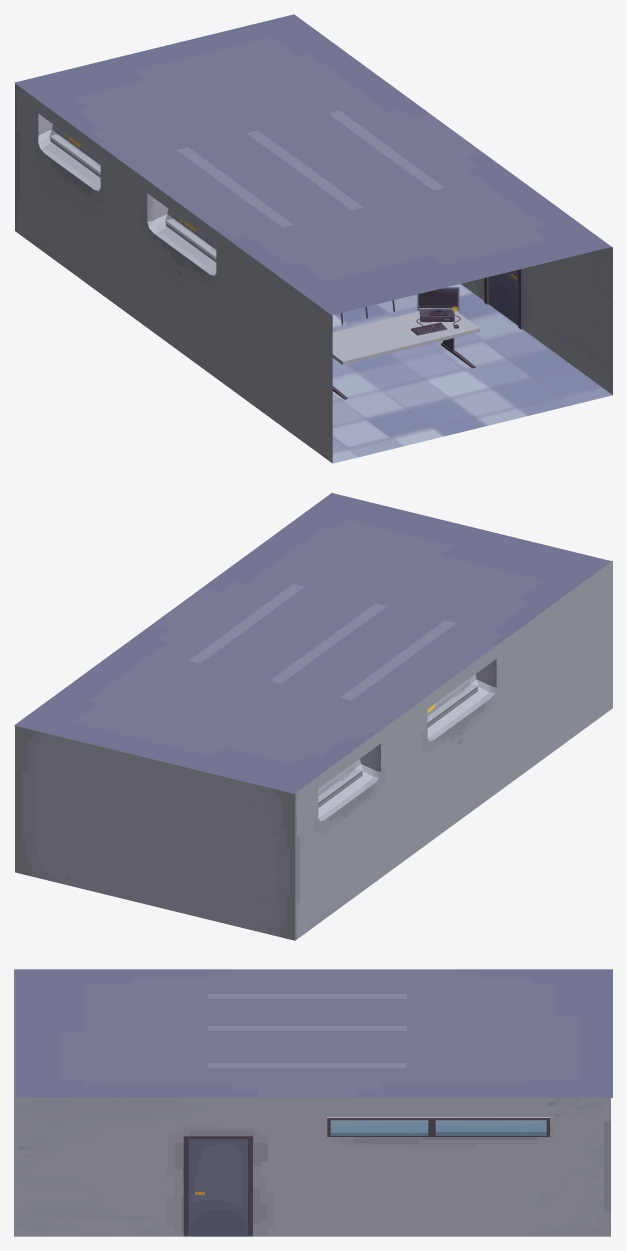
Rendered from Room.glb.
3 renders of one model, top to bottom at view 1: azimuth 30°, elevation 25°; view 2: azimuth 150°, elevation 25°; view 3: azimuth 270°, elevation 25°, orthographic. The views are drawn at different scales.
Parts seen in each view (by area): view 1: Sala.003, Sala.001, Sala, Sala.002, Cube, Cube.002; view 2: Sala.003, Sala.001, Sala.002; view 3: Sala.001, Sala.003.
Part boxes in pixels (box(x1,y1,x2,y2)): Sala.003: box(14, 14, 611, 314); Sala.001: box(15, 83, 612, 463); Sala: box(332, 284, 612, 463); Sala.002: box(38, 113, 216, 275); Cube: box(332, 311, 479, 399); Cube.002: box(417, 287, 459, 315); Sala.003: box(14, 493, 611, 793); Sala.001: box(15, 492, 612, 940); Sala.002: box(318, 659, 496, 820); Sala.001: box(14, 969, 610, 1236); Sala.003: box(16, 969, 612, 1097).
Bounding box in the file's own units: 4.5 × 2.25 × 8.78.
3 materials, 3 textured.
